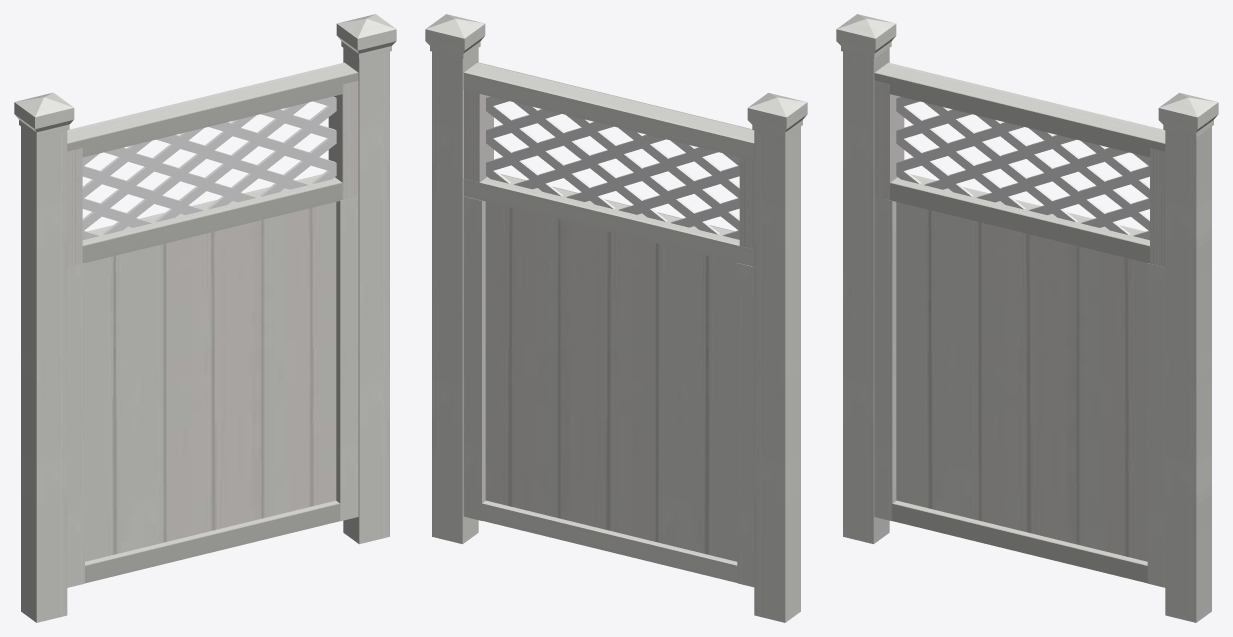
File: sweethome3d-contributions-fence-265.glb
3 renders of one model, left to right at view 1: azimuth 30°, elevation 25°; view 2: azimuth 150°, elevation 25°; view 3: azimuth 330°, elevation 25°, orthographic.
Visible parts, largest first — view 1: PolyMesh_7, PolyMesh_4_3, PolyMesh_4_2, PolyMesh_3, PolyMesh_5, PolyMesh_6_1, PolyMesh_5_1, PolyMesh_6, PolyMesh_5_2, PolyMesh_4_1, postcap, postcap_1 (+1 smaller); view 2: PolyMesh_7, PolyMesh_4_3, PolyMesh_4_2, PolyMesh_3, PolyMesh_5, PolyMesh_5_1, PolyMesh_6_1, PolyMesh_6, PolyMesh_5_2, PolyMesh_4_1, postcap_1, postcap (+1 smaller); view 3: PolyMesh_7, PolyMesh_4_2, PolyMesh_4_3, PolyMesh_3, PolyMesh_5, PolyMesh_6, PolyMesh_5_1, PolyMesh_6_1, PolyMesh_5_2, PolyMesh_4, postcap, postcap_1 (+1 smaller).
Part boxes in pixels (left/top/right/bottom): PolyMesh_7: left=85, top=202, right=336, bottom=561; PolyMesh_4_3: left=21, top=126, right=67, bottom=622; PolyMesh_4_2: left=343, top=48, right=389, bottom=544; PolyMesh_3: left=82, top=96, right=336, bottom=239; PolyMesh_5: left=67, top=62, right=358, bottom=157; PolyMesh_6_1: left=336, top=196, right=358, bottom=521; PolyMesh_5_1: left=82, top=174, right=342, bottom=263; PolyMesh_6: left=67, top=263, right=84, bottom=587; PolyMesh_5_2: left=85, top=500, right=340, bottom=583; PolyMesh_4_1: left=328, top=80, right=358, bottom=200; postcap: left=14, top=92, right=74, bottom=137; postcap_1: left=336, top=14, right=396, bottom=58; PolyMesh_7: left=485, top=201, right=737, bottom=561; PolyMesh_4_3: left=754, top=126, right=800, bottom=622; PolyMesh_4_2: left=432, top=48, right=478, bottom=544; PolyMesh_3: left=486, top=96, right=739, bottom=239; PolyMesh_5: left=463, top=62, right=754, bottom=160; PolyMesh_5_1: left=463, top=174, right=754, bottom=266; PolyMesh_6_1: left=463, top=196, right=485, bottom=520; PolyMesh_6: left=737, top=263, right=754, bottom=587; PolyMesh_5_2: left=482, top=500, right=737, bottom=582; PolyMesh_4_1: left=464, top=90, right=493, bottom=182; postcap_1: left=425, top=14, right=485, bottom=58; postcap: left=747, top=93, right=807, bottom=137; PolyMesh_7: left=896, top=202, right=1147, bottom=561; PolyMesh_4_2: left=1165, top=126, right=1211, bottom=622; PolyMesh_4_3: left=843, top=48, right=889, bottom=544; PolyMesh_3: left=896, top=96, right=1149, bottom=240; PolyMesh_5: left=874, top=62, right=1165, bottom=157; PolyMesh_6: left=874, top=196, right=896, bottom=521; PolyMesh_5_1: left=890, top=174, right=1149, bottom=263; PolyMesh_6_1: left=1147, top=263, right=1165, bottom=587; PolyMesh_5_2: left=892, top=500, right=1147, bottom=583; PolyMesh_4: left=874, top=81, right=904, bottom=200; postcap: left=836, top=14, right=896, bottom=58; postcap_1: left=1158, top=93, right=1218, bottom=137.
Bounding box in the file's own units: 0.7388 × 1.01 × 0.0743.
2 materials, 1 textured.
